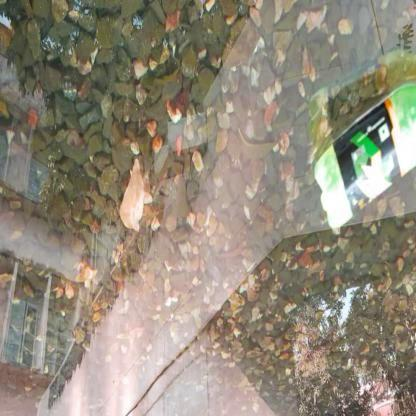Plastic: (310, 78, 416, 232)
